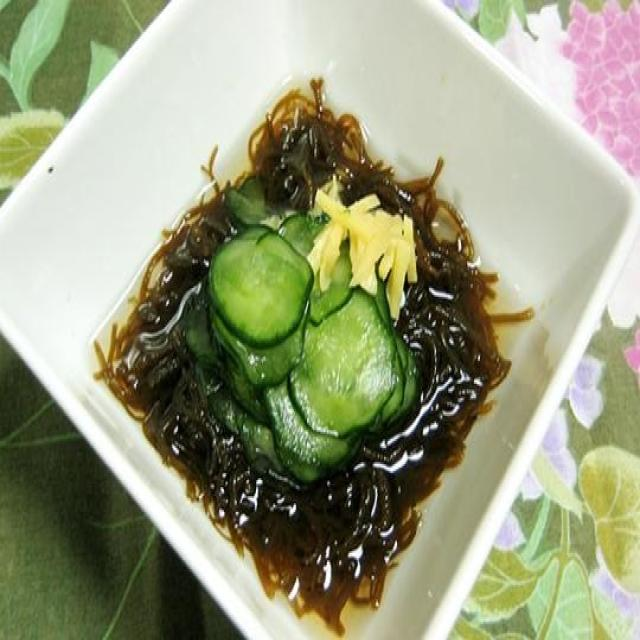蔬菜料理: (32, 29, 606, 602)
